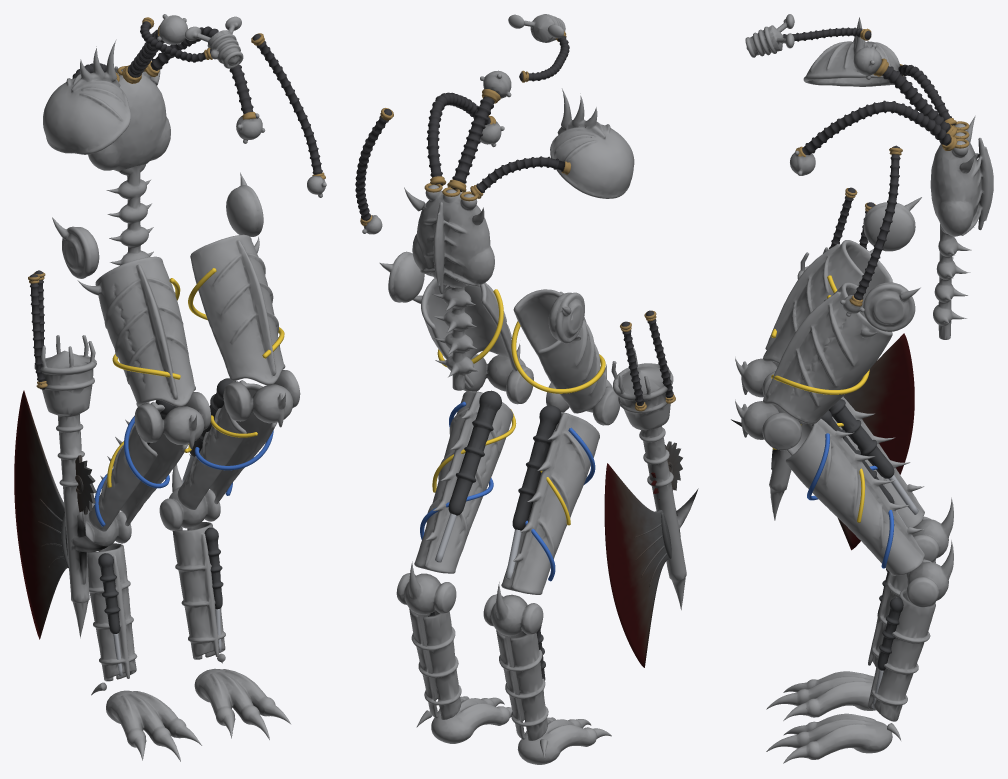
File: butcher-parts.glb
3 renders of one model, left to right at view 1: azimuth 30°, elevation 25°; view 2: azimuth 150°, elevation 25°; view 3: azimuth 270°, elevation 25°, orthographic. The views are drawn at different scales.
Visible parts, largest first — view 1: thigh.r|femur, thigh.l|femur, foreArm.r|blade, foreArm.r|haft, clavicle.r|pauldron, pelvis|hips, shin.l|tibia, shin.r|tibia, foot.l|cannon, spine|pump, foot.r|cannon, foot.r|toes (+21 smaller); view 2: foreArm.r|blade, shin.r|tibia, spine|pump, shin.l|tibia, foreArm.r|haft, pelvis|hips, clavicle.r|pauldron, thigh.r|femur, foot.r|cannon, foot.l|cannon, thigh.l|femur, foot.l|toes (+19 smaller); view 3: thigh.l|femur, shin.l|tibia, pelvis|hips, foreArm.r|blade, spine|pump, thigh.r|femur, foot.l|cannon, foot.l|toes, foot.r|toes, clavicle.r|pauldron, shin.l|knee, spine|hoseL (+19 smaller).
Part boxes in pixels (x1=…): thigh.r|femur: x1=77, y1=256, x2=195, y2=406; thigh.l|femur: x1=190, y1=234, x2=285, y2=385; foreArm.r|blade: x1=14, y1=390, x2=68, y2=639; foreArm.r|haft: x1=34, y1=335, x2=107, y2=638; clavicle.r|pauldron: x1=43, y1=39, x2=130, y2=154; pelvis|hips: x1=52, y1=164, x2=263, y2=278; shin.l|tibia: x1=177, y1=380, x2=276, y2=509; shin.r|tibia: x1=88, y1=402, x2=188, y2=531; foot.l|cannon: x1=172, y1=522, x2=225, y2=659; spine|pump: x1=88, y1=66, x2=170, y2=171; foot.r|cannon: x1=87, y1=543, x2=137, y2=681; foot.r|toes: x1=91, y1=682, x2=201, y2=761; foreArm.r|blade: x1=604, y1=463, x2=671, y2=667; shin.r|tibia: x1=501, y1=412, x2=599, y2=594; spine|pump: x1=404, y1=185, x2=494, y2=294; shin.l|tibia: x1=414, y1=391, x2=513, y2=573; foreArm.r|haft: x1=611, y1=348, x2=698, y2=610; pelvis|hips: x1=379, y1=251, x2=584, y2=390; clavicle.r|pauldron: x1=550, y1=88, x2=634, y2=198; thigh.r|femur: x1=513, y1=289, x2=606, y2=413; foot.r|cannon: x1=496, y1=630, x2=548, y2=740; foot.l|cannon: x1=409, y1=608, x2=461, y2=719; thigh.l|femur: x1=413, y1=278, x2=518, y2=387; foot.l|toes: x1=416, y1=696, x2=512, y2=743; thigh.l|femur: x1=763, y1=282, x2=892, y2=424; shin.l|tibia: x1=785, y1=418, x2=924, y2=575; pelvis|hips: x1=863, y1=197, x2=974, y2=339; foreArm.r|blade: x1=837, y1=333, x2=914, y2=550; spine|pump: x1=930, y1=115, x2=993, y2=236; thigh.r|femur: x1=763, y1=240, x2=892, y2=363; foot.l|cannon: x1=868, y1=589, x2=935, y2=721; foot.l|toes: x1=766, y1=713, x2=900, y2=763; foot.r|toes: x1=766, y1=671, x2=875, y2=720; clavicle.r|pauldron: x1=803, y1=17, x2=899, y2=86; shin.l|knee: x1=735, y1=399, x2=801, y2=450; spine|hoseL: x1=802, y1=100, x2=951, y2=154.
Size of the model in its own units: 0.7538 by 1.71 by 0.5806.
